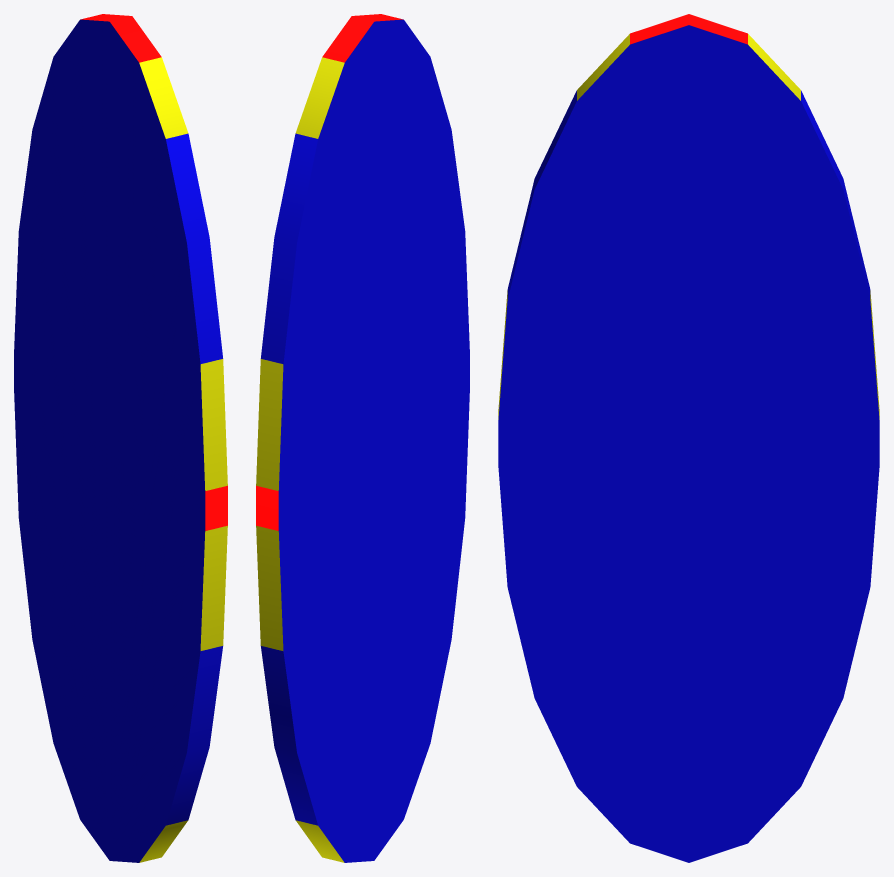
Rendered from Mallet Center.fbx.
3 views of the same model, side by side, from view 1: azimuth 30°, elevation 25°; view 2: azimuth 150°, elevation 25°; view 3: azimuth 270°, elevation 25° (orthographic).
Parts seen in each view (by area): view 1: Mallet Center; view 2: Mallet Center; view 3: Mallet Center.
Boxes of the visible parts, x1,y1,x2,y2 form: Mallet Center: [14, 14, 227, 862]; Mallet Center: [256, 14, 469, 862]; Mallet Center: [498, 14, 879, 862].
Bounding box in the file's own units: 5.94 × 210 × 86.67.
